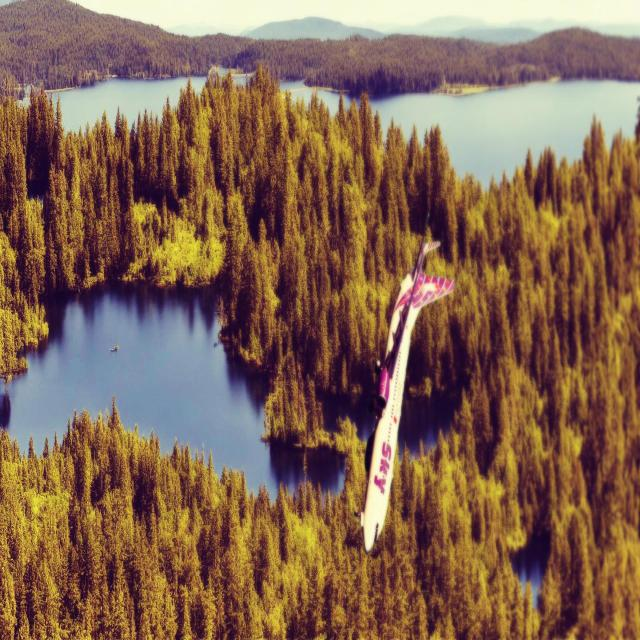airplane: (354, 223, 455, 553)
